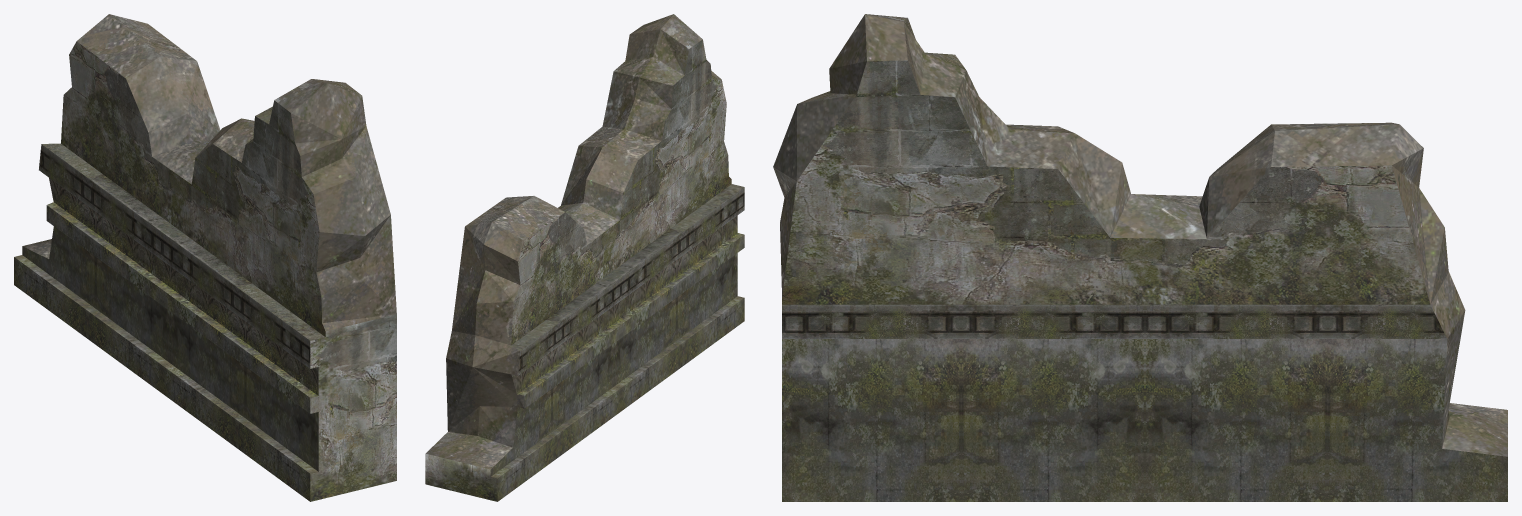
File: bg_lut_lucastle_brosewall01c_sm_psy.FBX
3 renders of one model, left to right at view 1: azimuth 30°, elevation 25°; view 2: azimuth 150°, elevation 25°; view 3: azimuth 270°, elevation 25°, orthographic. The views are drawn at different scales.
Parts seen in each view (by area): view 1: bg_lut_lucastle_brosewall01c_sm_psy; view 2: bg_lut_lucastle_brosewall01c_sm_psy; view 3: bg_lut_lucastle_brosewall01c_sm_psy.
Part boxes in pixels (x1=…): bg_lut_lucastle_brosewall01c_sm_psy: x1=14, y1=14, x2=396, y2=501; bg_lut_lucastle_brosewall01c_sm_psy: x1=425, y1=14, x2=744, y2=501; bg_lut_lucastle_brosewall01c_sm_psy: x1=773, y1=14, x2=1507, y2=501.
Size of the model in its own units: 64.75 by 272 by 389.
